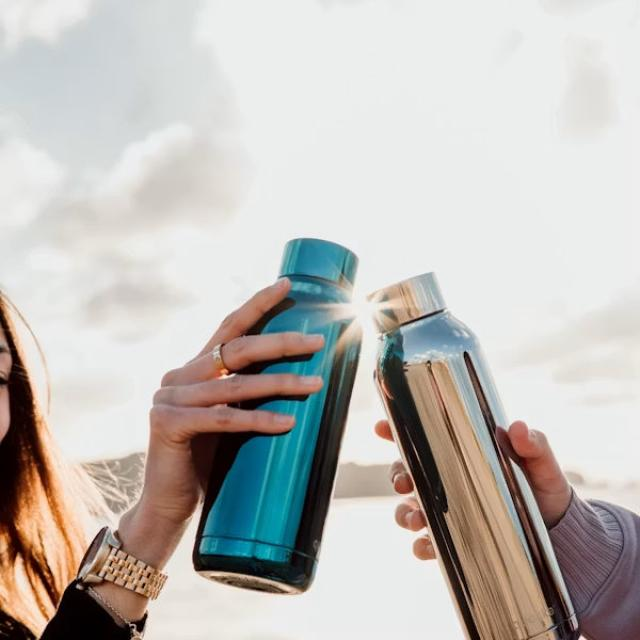Bottle: (368, 274, 579, 639), (194, 238, 361, 594)
